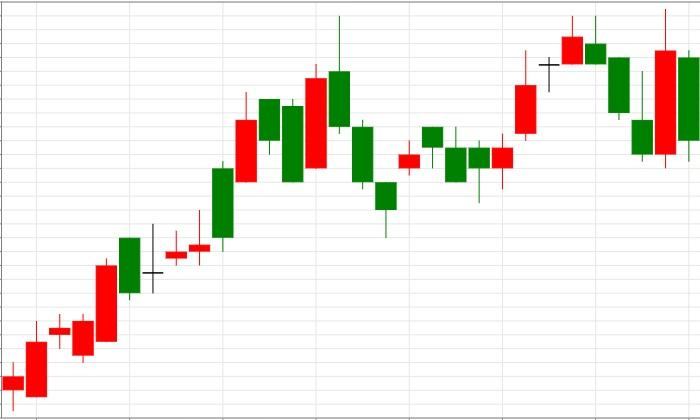bullish_engulfing_rise: (561, 8, 677, 168)
three_black_crows_fall: (2, 15, 397, 411)
